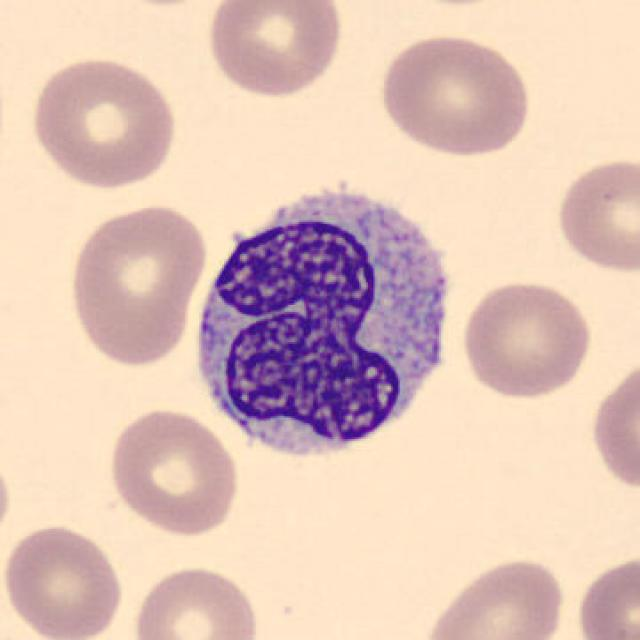Monocyte: (183, 169, 464, 480)
RBC: (64, 199, 210, 370), (27, 51, 181, 192), (373, 28, 535, 160), (105, 404, 242, 540), (457, 277, 595, 400), (0, 520, 126, 640), (202, 0, 346, 100), (420, 552, 570, 640), (128, 560, 263, 640), (551, 153, 638, 275), (587, 351, 638, 497), (572, 548, 640, 640), (0, 446, 14, 559)
